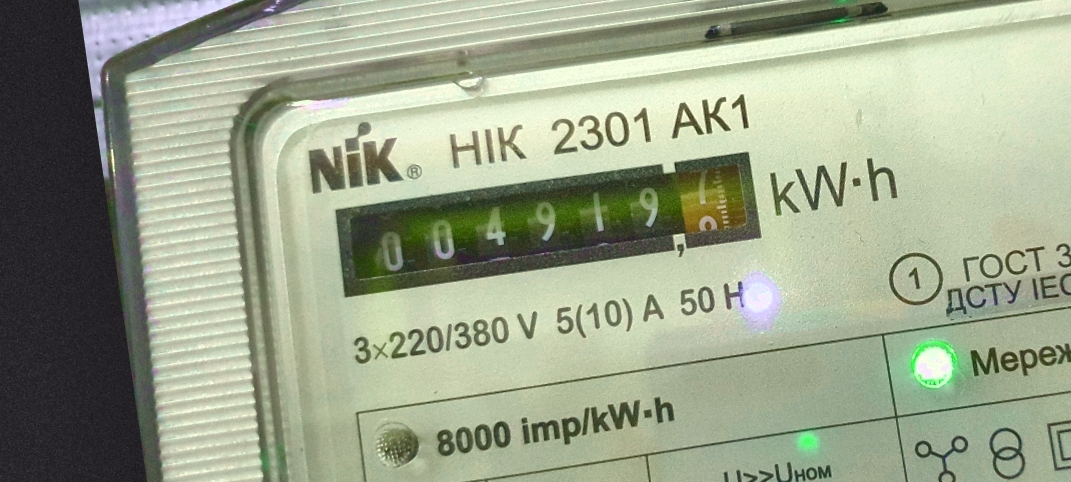0: (426, 214, 458, 262), (376, 226, 405, 273)
1: (586, 187, 607, 234)
4: (477, 202, 507, 248)
7: (685, 165, 713, 207)
9: (633, 181, 663, 231), (531, 197, 560, 244)
screen: (318, 134, 780, 316)
